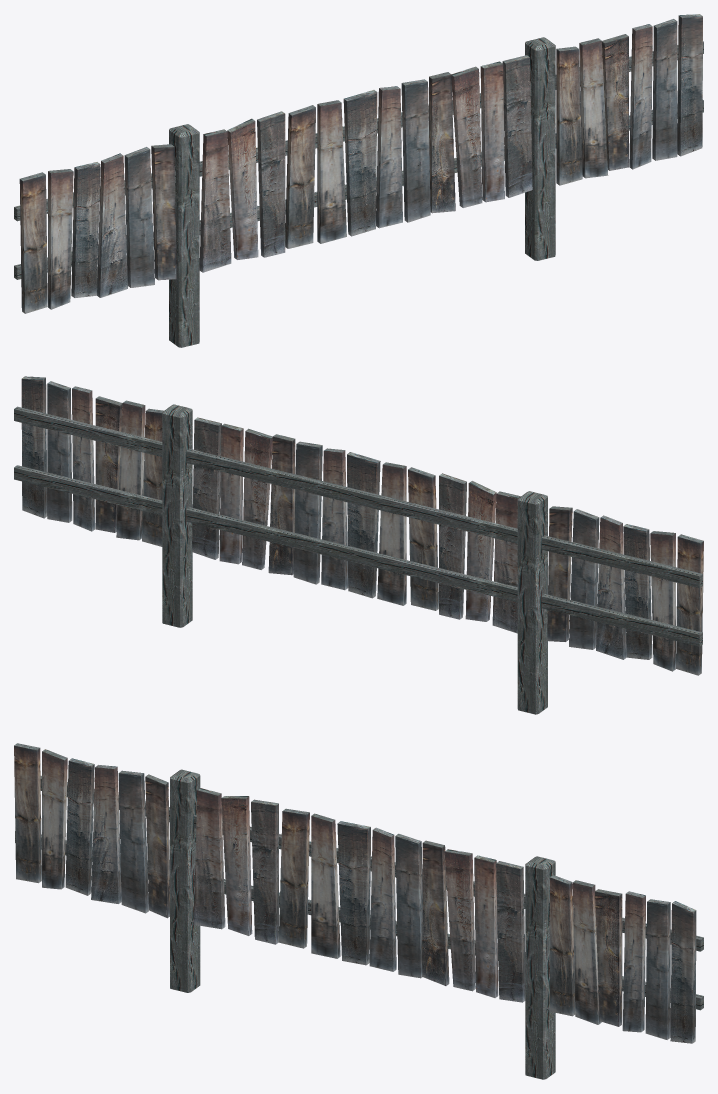
The model's file is WoodFenceLitleShort.FBX.
The picture shows the model from 3 angles, top to bottom: view 1: azimuth 30°, elevation 25°; view 2: azimuth 150°, elevation 25°; view 3: azimuth 330°, elevation 25°; orthographic projection.
Visible parts, largest first — view 1: WoodFenceLitleShort; view 2: WoodFenceLitleShort; view 3: WoodFenceLitleShort.
Part boxes in pixels (box(x1,y1,x2,y2)): WoodFenceLitleShort: box(14, 14, 703, 347); WoodFenceLitleShort: box(14, 376, 703, 714); WoodFenceLitleShort: box(14, 743, 703, 1079).
Size of the model in its own units: 60 by 17.77 by 1.84.
